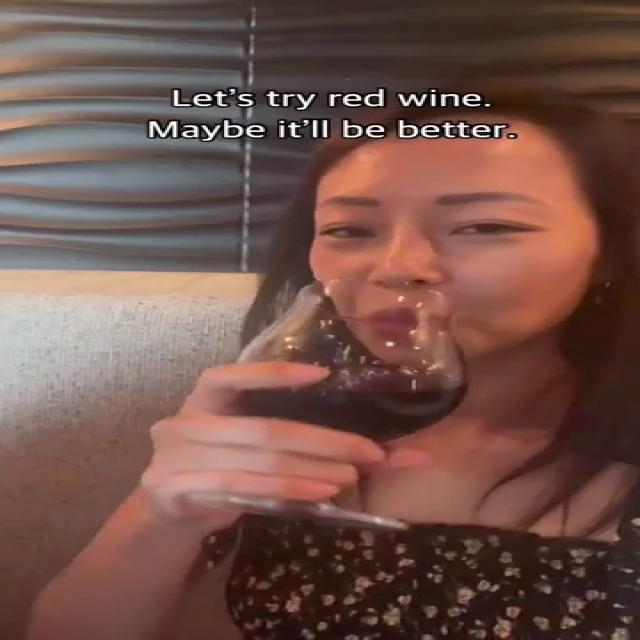Cup: (190, 282, 462, 530)
Hand: (140, 354, 420, 538)
Mouth: (348, 306, 470, 332)
